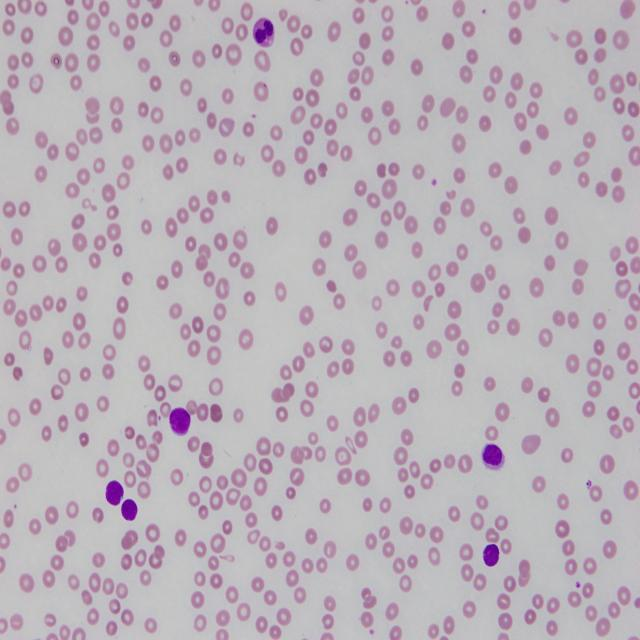cell: (482, 443, 505, 470), (169, 408, 190, 435), (105, 480, 124, 505), (482, 543, 499, 567), (121, 500, 138, 520)
